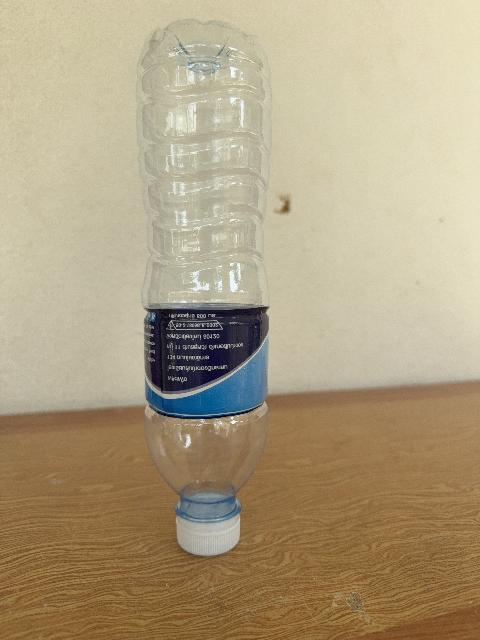bottle: (136, 20, 269, 555)
